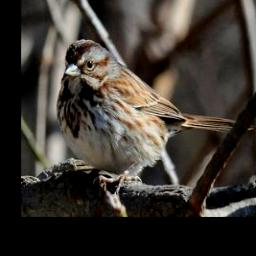Sparrow: (57, 37, 256, 196)
